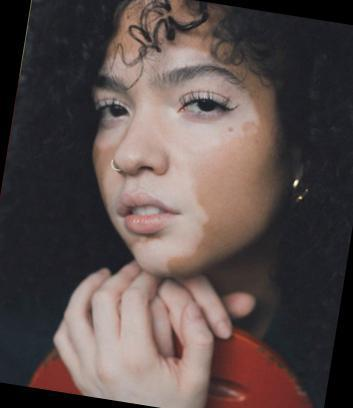Sober: (88, 21, 274, 264)
